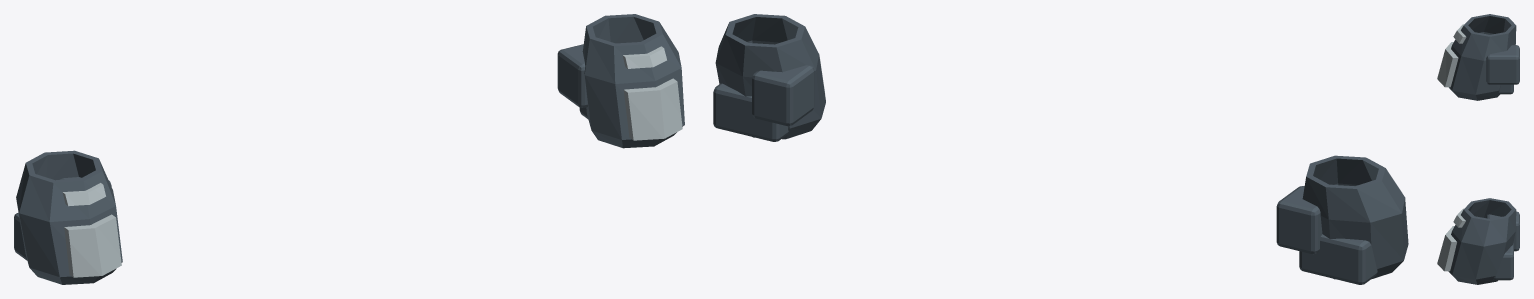
File: plate_hands-male.glb
3 renders of one model, left to right at view 1: azimuth 30°, elevation 25°; view 2: azimuth 150°, elevation 25°; view 3: azimuth 270°, elevation 25°, orthographic. The views are drawn at different scales.
Parts seen in each view (by area): view 1: Block hand armor -1, Block hand armor 1, Gauntlet knuckle plate 1, Gauntlet knuckle plate -1, Block thumb armor 1, Glove turned wrist seam 1, Glove turned wrist seam -1; view 2: Block hand armor -1, Block hand armor 1, Block thumb armor 1, Block hand curl armor -1, Block thumb armor -1, Block hand curl armor 1; view 3: Block hand armor 1, Block hand armor -1, Block thumb armor -1, Gauntlet knuckle plate -1, Gauntlet knuckle plate 1, Block hand curl armor 1, Block thumb armor 1, Block hand curl armor -1, Glove turned wrist seam -1, Glove turned wrist seam 1.
Boxes of the visible parts, left/top/right/bottom form: Block hand armor -1: left=16, top=150, right=122, bottom=284; Block hand armor 1: left=582, top=14, right=684, bottom=148; Gauntlet knuckle plate 1: left=623, top=78, right=682, bottom=140; Gauntlet knuckle plate -1: left=64, top=214, right=121, bottom=277; Block thumb armor 1: left=557, top=44, right=587, bottom=107; Glove turned wrist seam 1: left=622, top=46, right=666, bottom=68; Glove turned wrist seam -1: left=62, top=183, right=105, bottom=206; Block hand armor -1: left=1302, top=155, right=1408, bottom=279; Block hand armor 1: left=715, top=14, right=825, bottom=139; Block thumb armor 1: left=752, top=65, right=814, bottom=125; Block hand curl armor -1: left=1299, top=234, right=1377, bottom=284; Block thumb armor -1: left=1276, top=186, right=1322, bottom=254; Block hand curl armor 1: left=713, top=83, right=788, bottom=141; Block hand armor 1: left=1448, top=198, right=1516, bottom=284; Block hand armor -1: left=1449, top=14, right=1516, bottom=100; Block thumb armor -1: left=1486, top=45, right=1519, bottom=84; Gauntlet knuckle plate -1: left=1437, top=42, right=1458, bottom=87; Gauntlet knuckle plate 1: left=1437, top=226, right=1456, bottom=271; Block hand curl armor 1: left=1493, top=243, right=1513, bottom=280; Block thumb armor 1: left=1486, top=211, right=1519, bottom=251; Block hand curl armor -1: left=1498, top=84, right=1513, bottom=94; Glove turned wrist seam -1: left=1453, top=24, right=1466, bottom=43; Glove turned wrist seam 1: left=1453, top=208, right=1465, bottom=227.
Size of the model in its own units: 3.79 by 0.52 by 0.6115.
